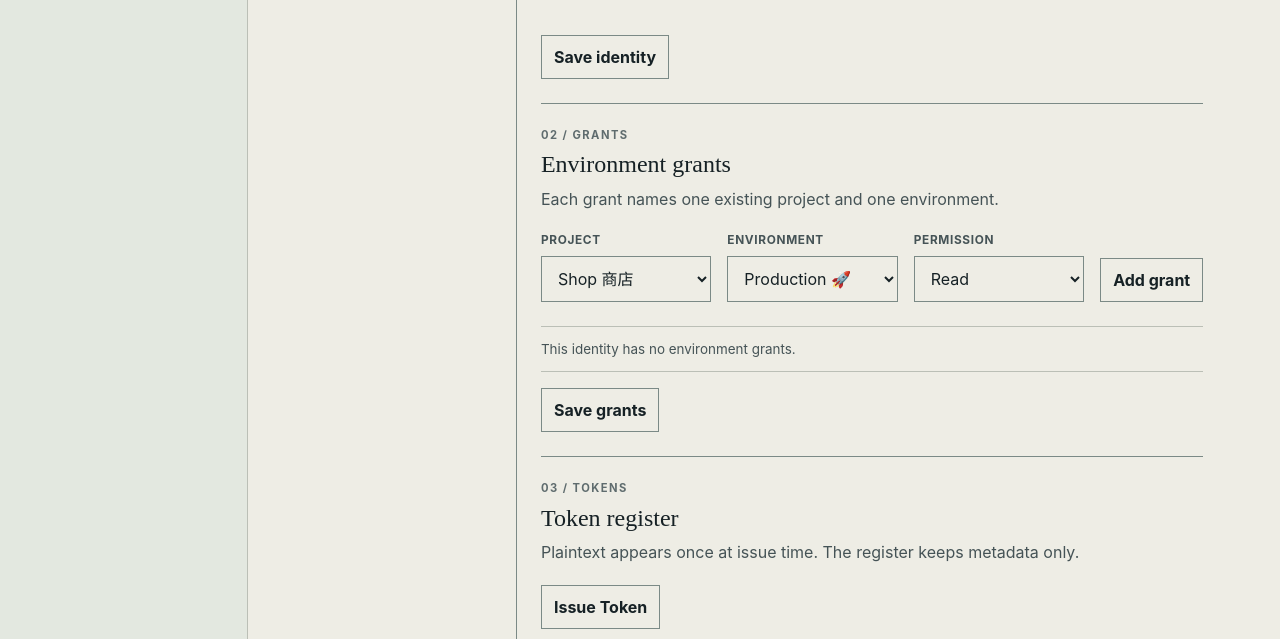
Test case: MachineAccessPage › retranslates a writable grant draft without losing its selected permission
(page scrolled)
Select "Read and write" in the dropdown labelled "Permission" at x=999, y=279, box [914,256,1084,302]
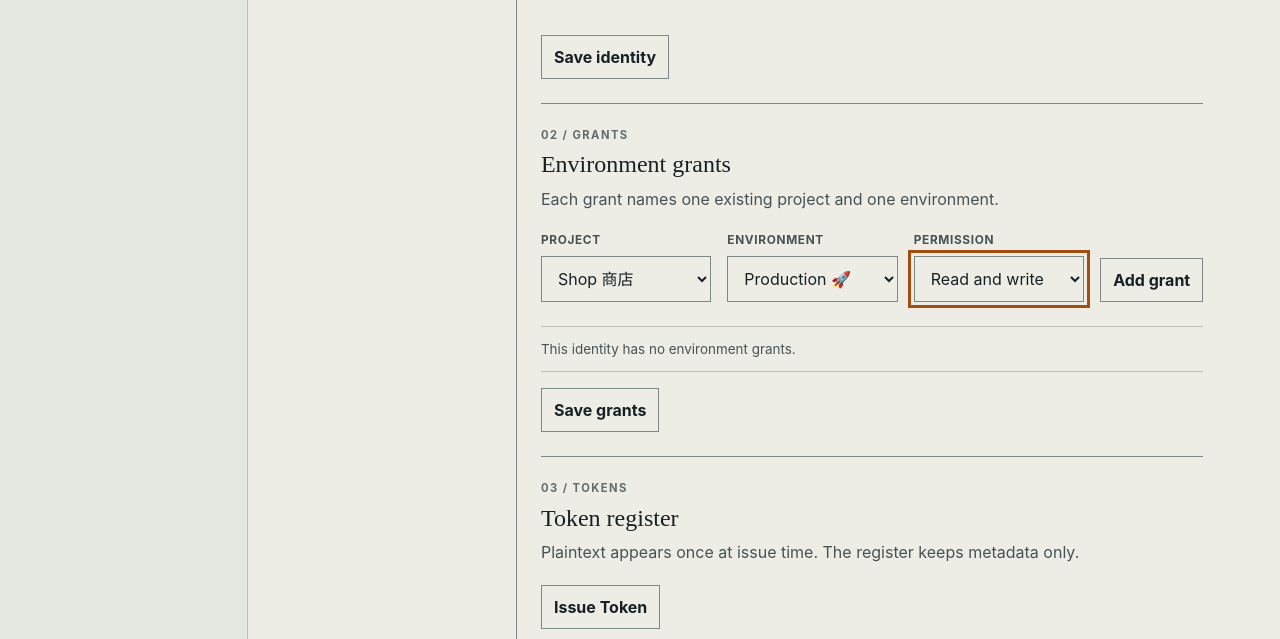
Click the button "Add grant" at x=1152, y=280, box [1100,258,1203,302]
(page scrolled)
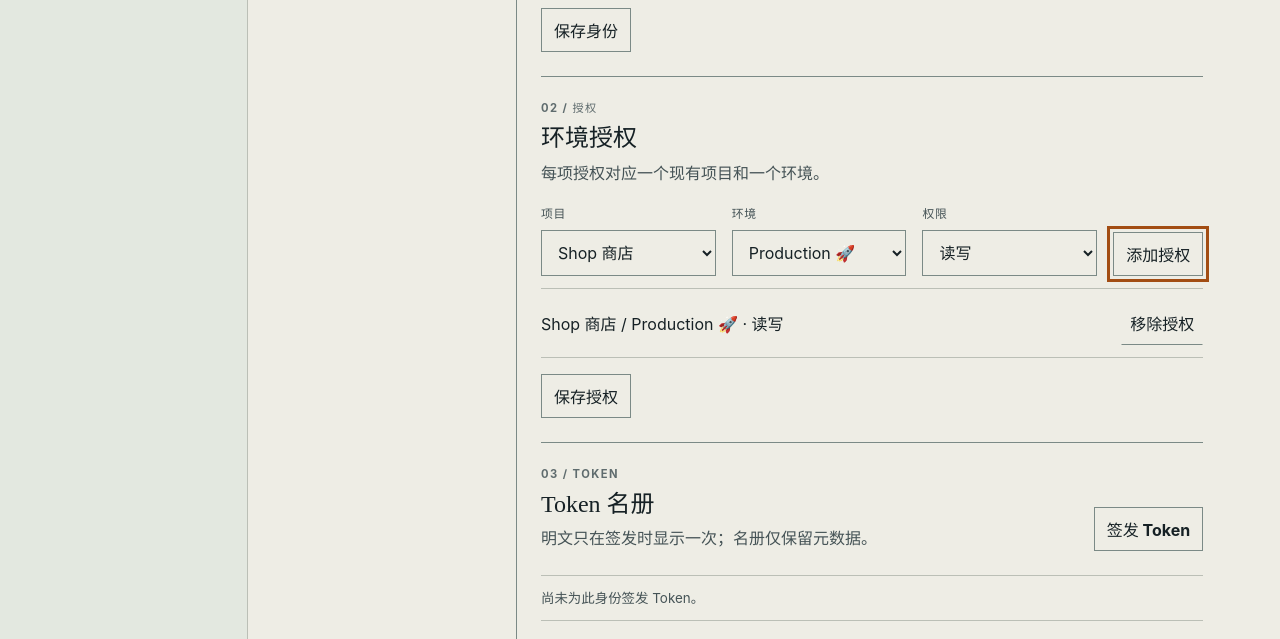
Check: the text "Shop 商店 / Production 🚀 · 读写" is shown, box [541,311,784,335]
